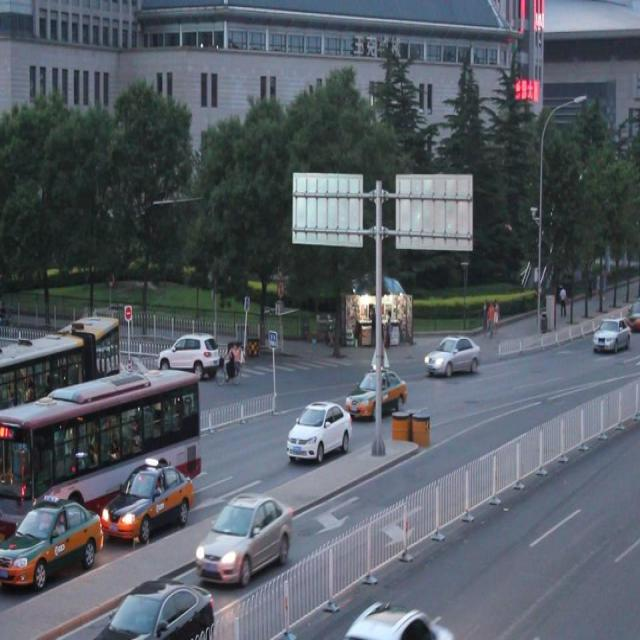car: (1, 492, 103, 589), (195, 490, 292, 585), (104, 454, 194, 544), (97, 572, 214, 640), (285, 400, 352, 463), (344, 367, 406, 420), (159, 332, 218, 384), (423, 334, 479, 377), (128, 367, 172, 413)
van: (1, 372, 200, 544), (1, 318, 120, 418)
